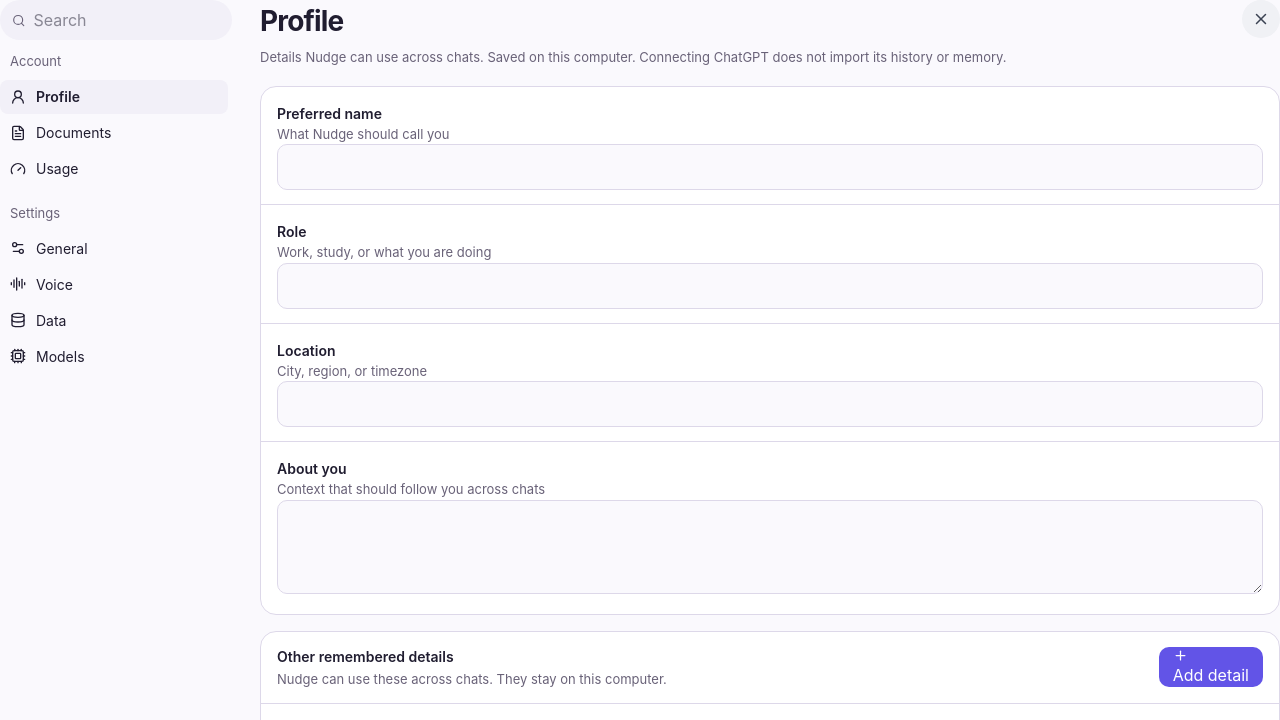
Test: full-screen account and settings › keeps a failed paste in the dialog
Click the button "Documents": (114, 132) [0,116,228,150]
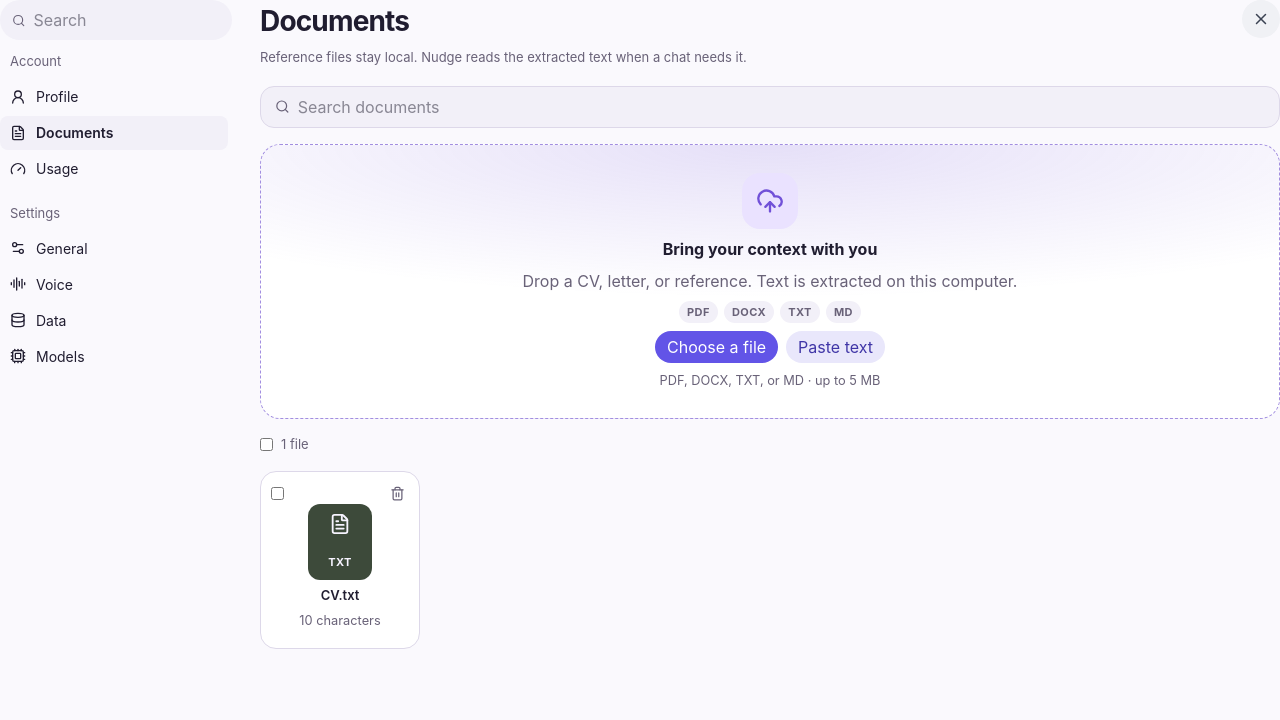
Click the button "Paste text": (836, 347) [786,331,885,363]
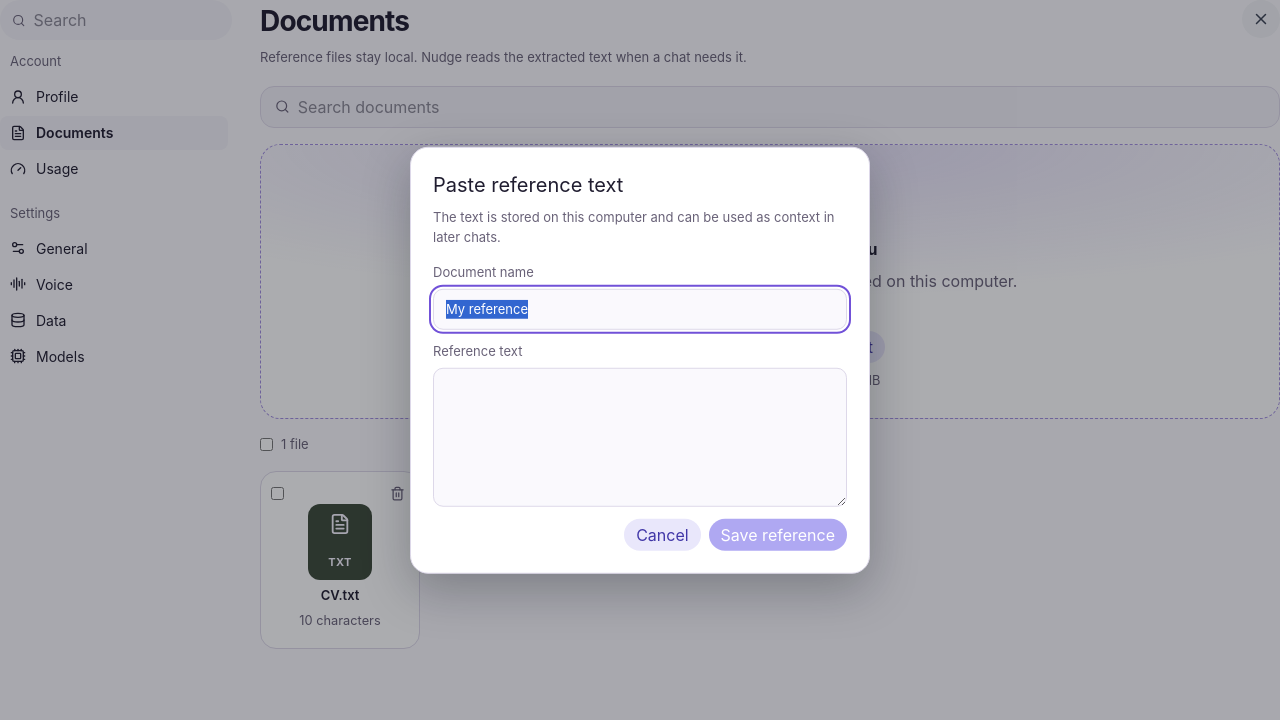
Replace the text in the field labelled "Document name" with "Important letter": (640, 309) [433,288,847,330]
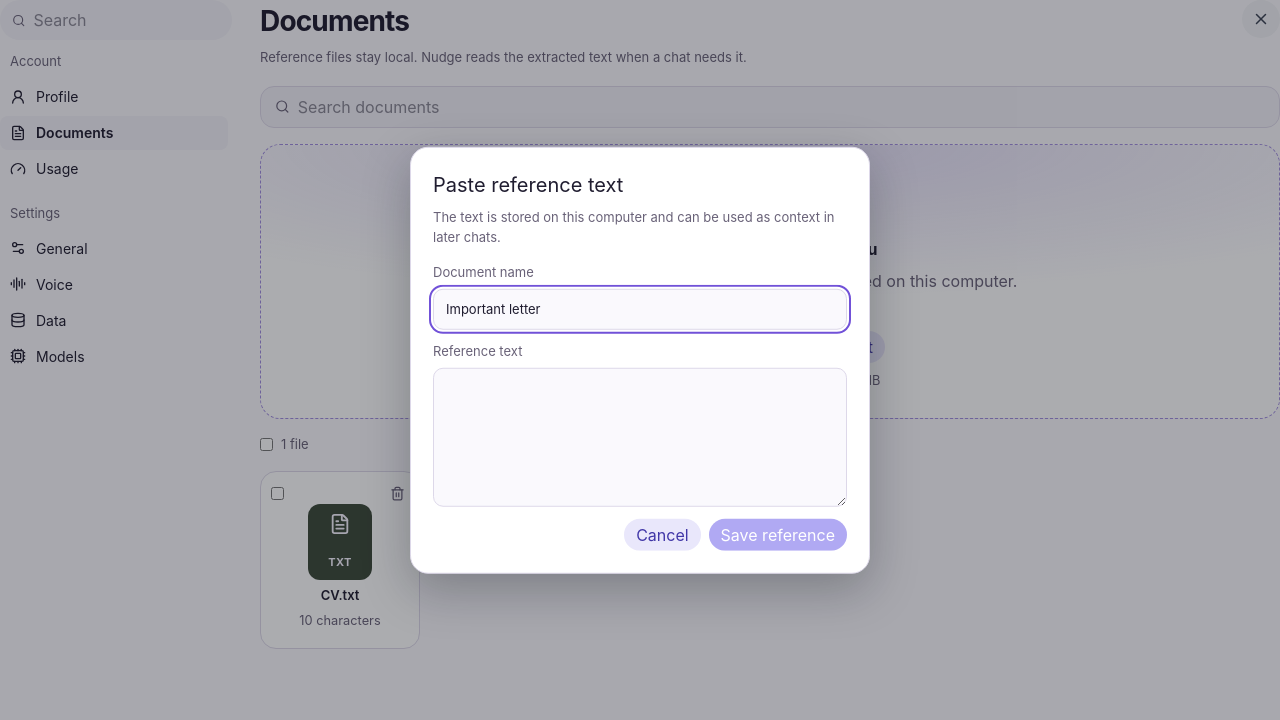
In the text box labelled "Reference text": (640, 437) [433,367,847,506], type "Keep this unsaved draft."
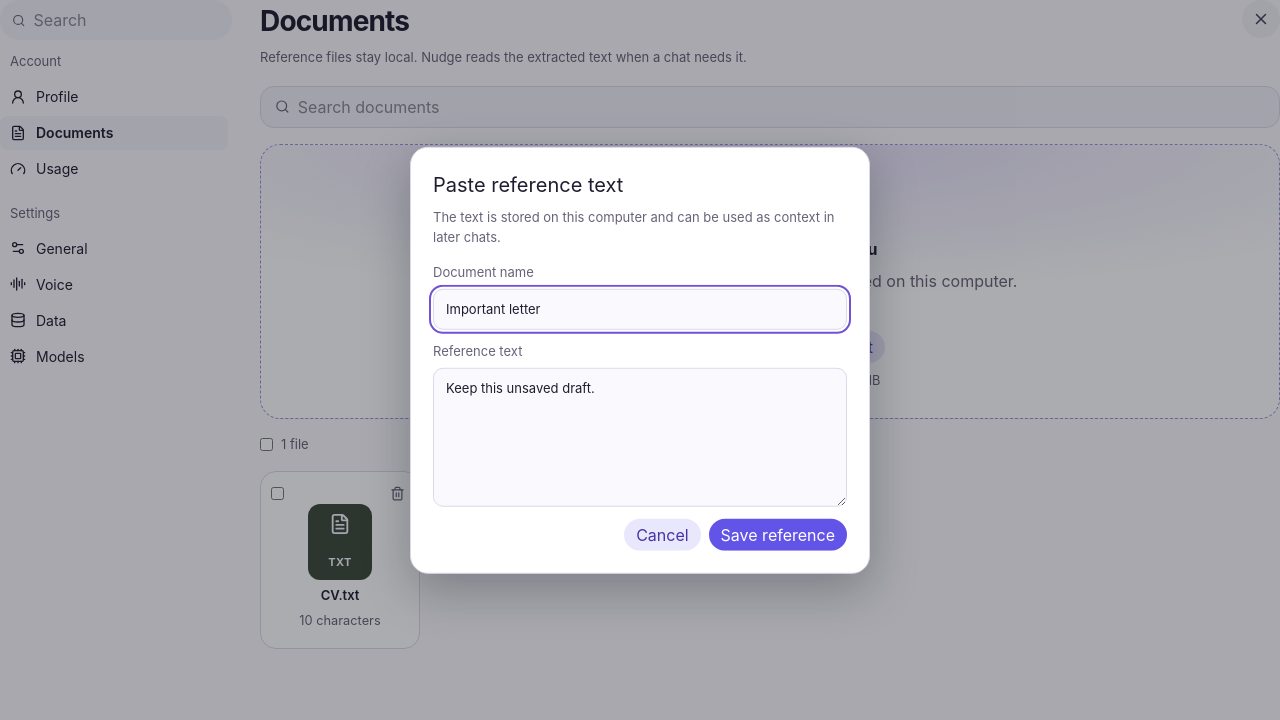
Click the button "Save reference": (778, 534) [709,518,847,550]
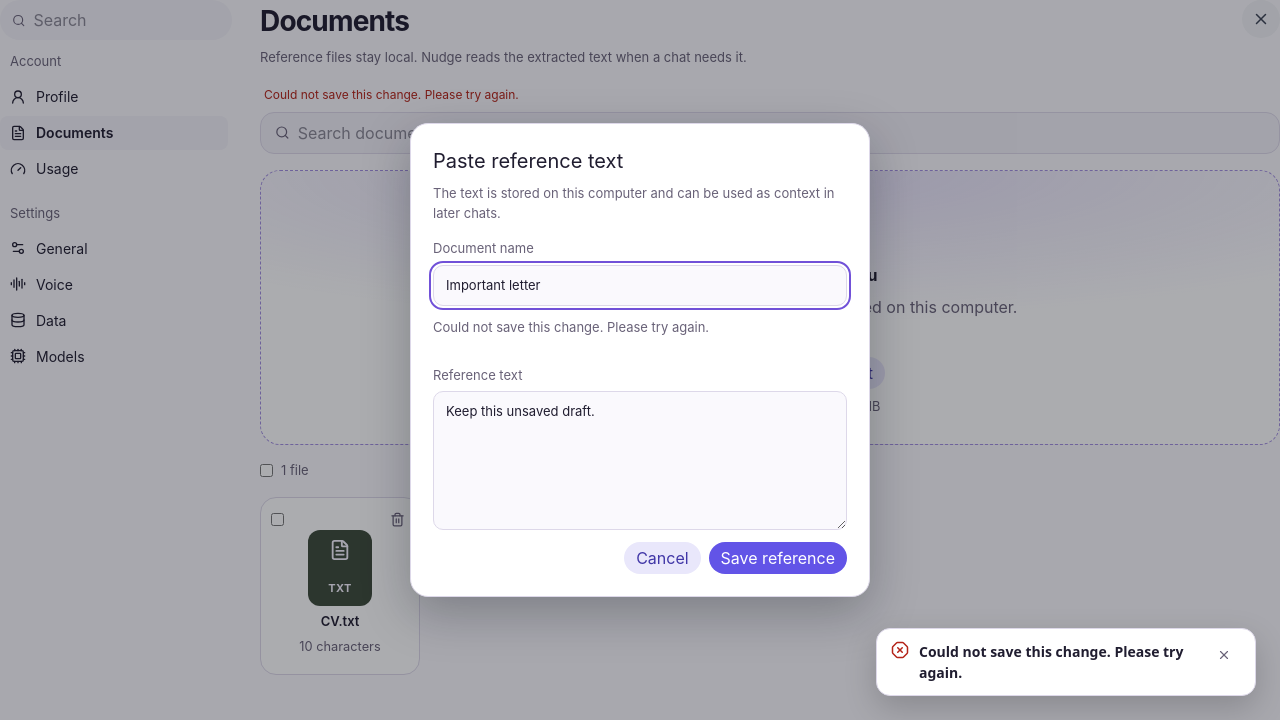
Result: the message shows "Could not save" at [433,319,709,335]
